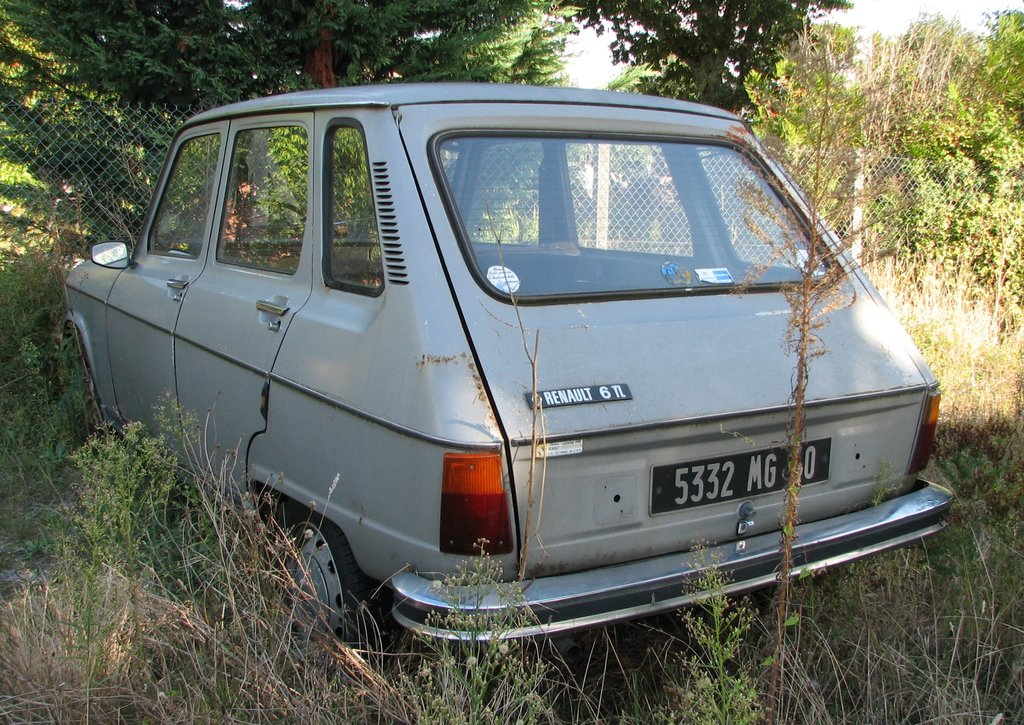mobil: (44, 81, 962, 648)
